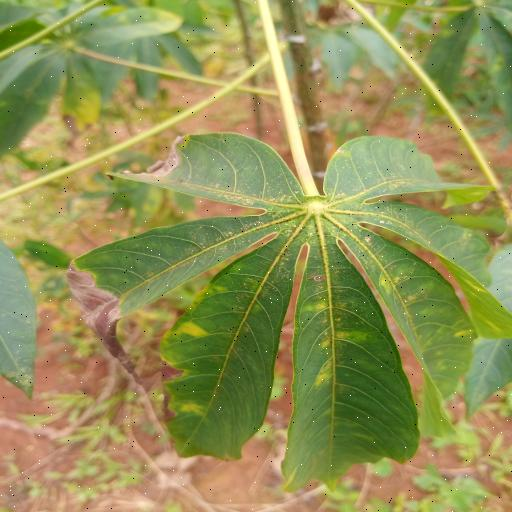Cassava_Mosaic: (58, 129, 512, 492)
